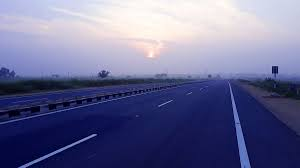strada: (1, 81, 296, 168)
